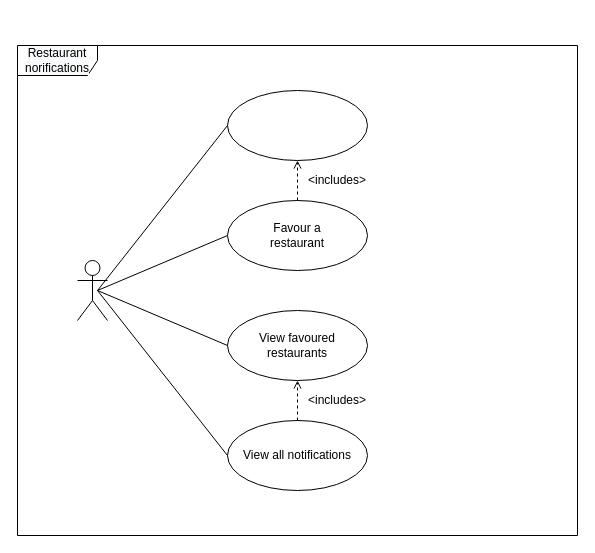
Image size: 595x553. Some labels were removed from this diagram. The centre of each missing label's shape, as x and y in pixels:
Favour a product: pixel 297 125
User: pixel 92 290
